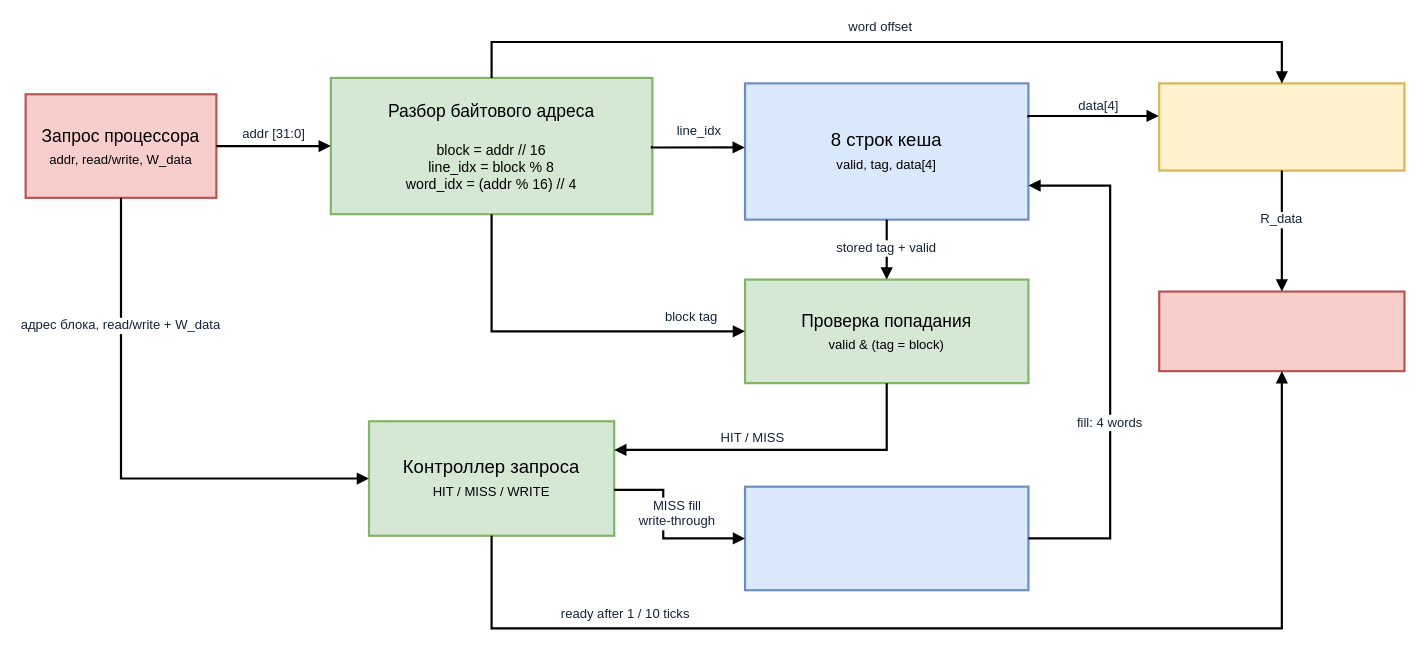
Image size: 1424x656. Some labels were removed from this diagram. Each missing label, with the centre of its shape:
RAM 4096 × 32 бита: the point at 886,538
Выбор слова data[word]: the point at 1281,126
Ответ процессору R_data, ready: the point at 1281,331
